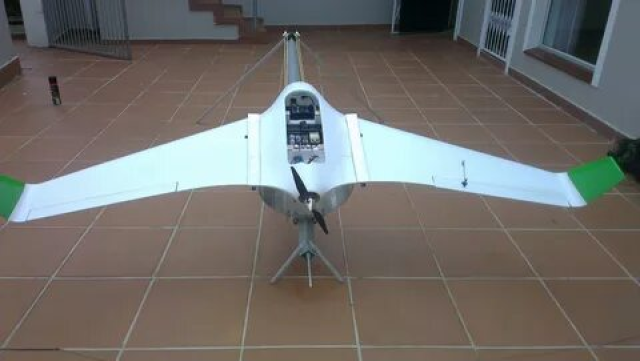military drone: (0, 80, 626, 235)
